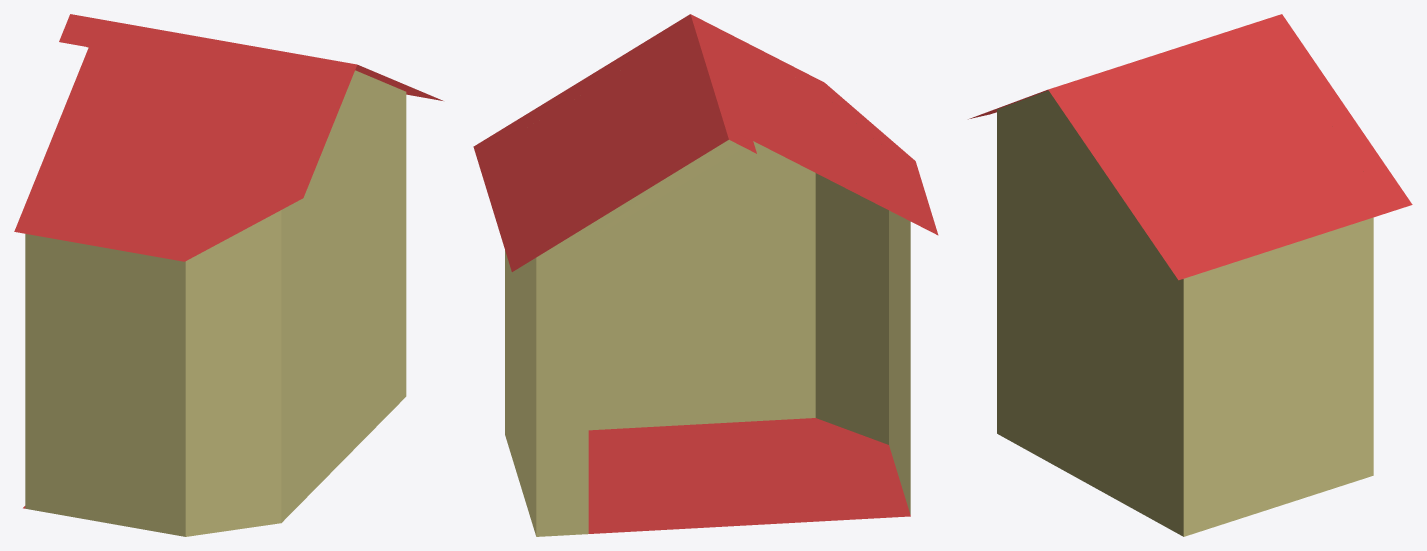
The picture shows the model from 3 angles, left to right: view 1: azimuth 30°, elevation 25°; view 2: azimuth 150°, elevation 25°; view 3: azimuth 270°, elevation 25°; orthographic projection. The views are drawn at different scales.
Size of the model in its own units: 13.49 by 12.04 by 11.68.
